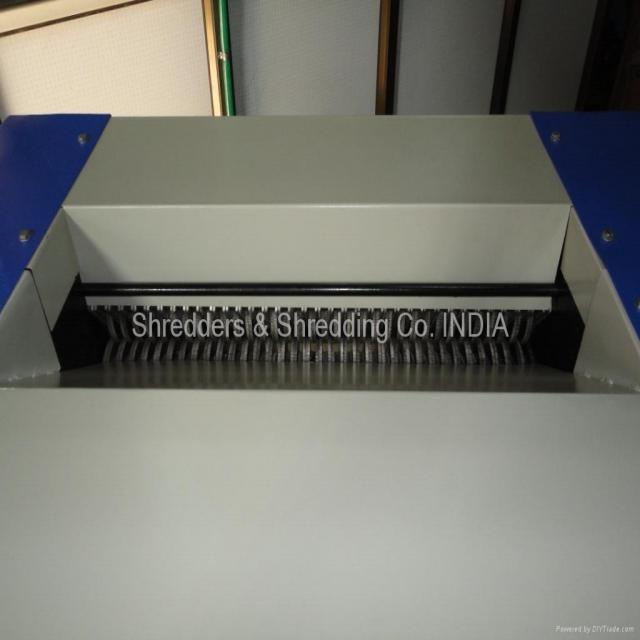Broyeur: (61, 268, 574, 388)
